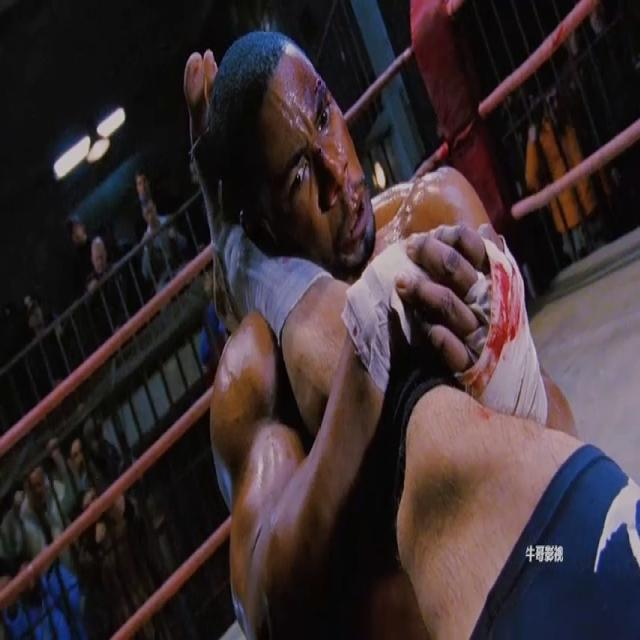fight: (110, 1, 639, 639)
